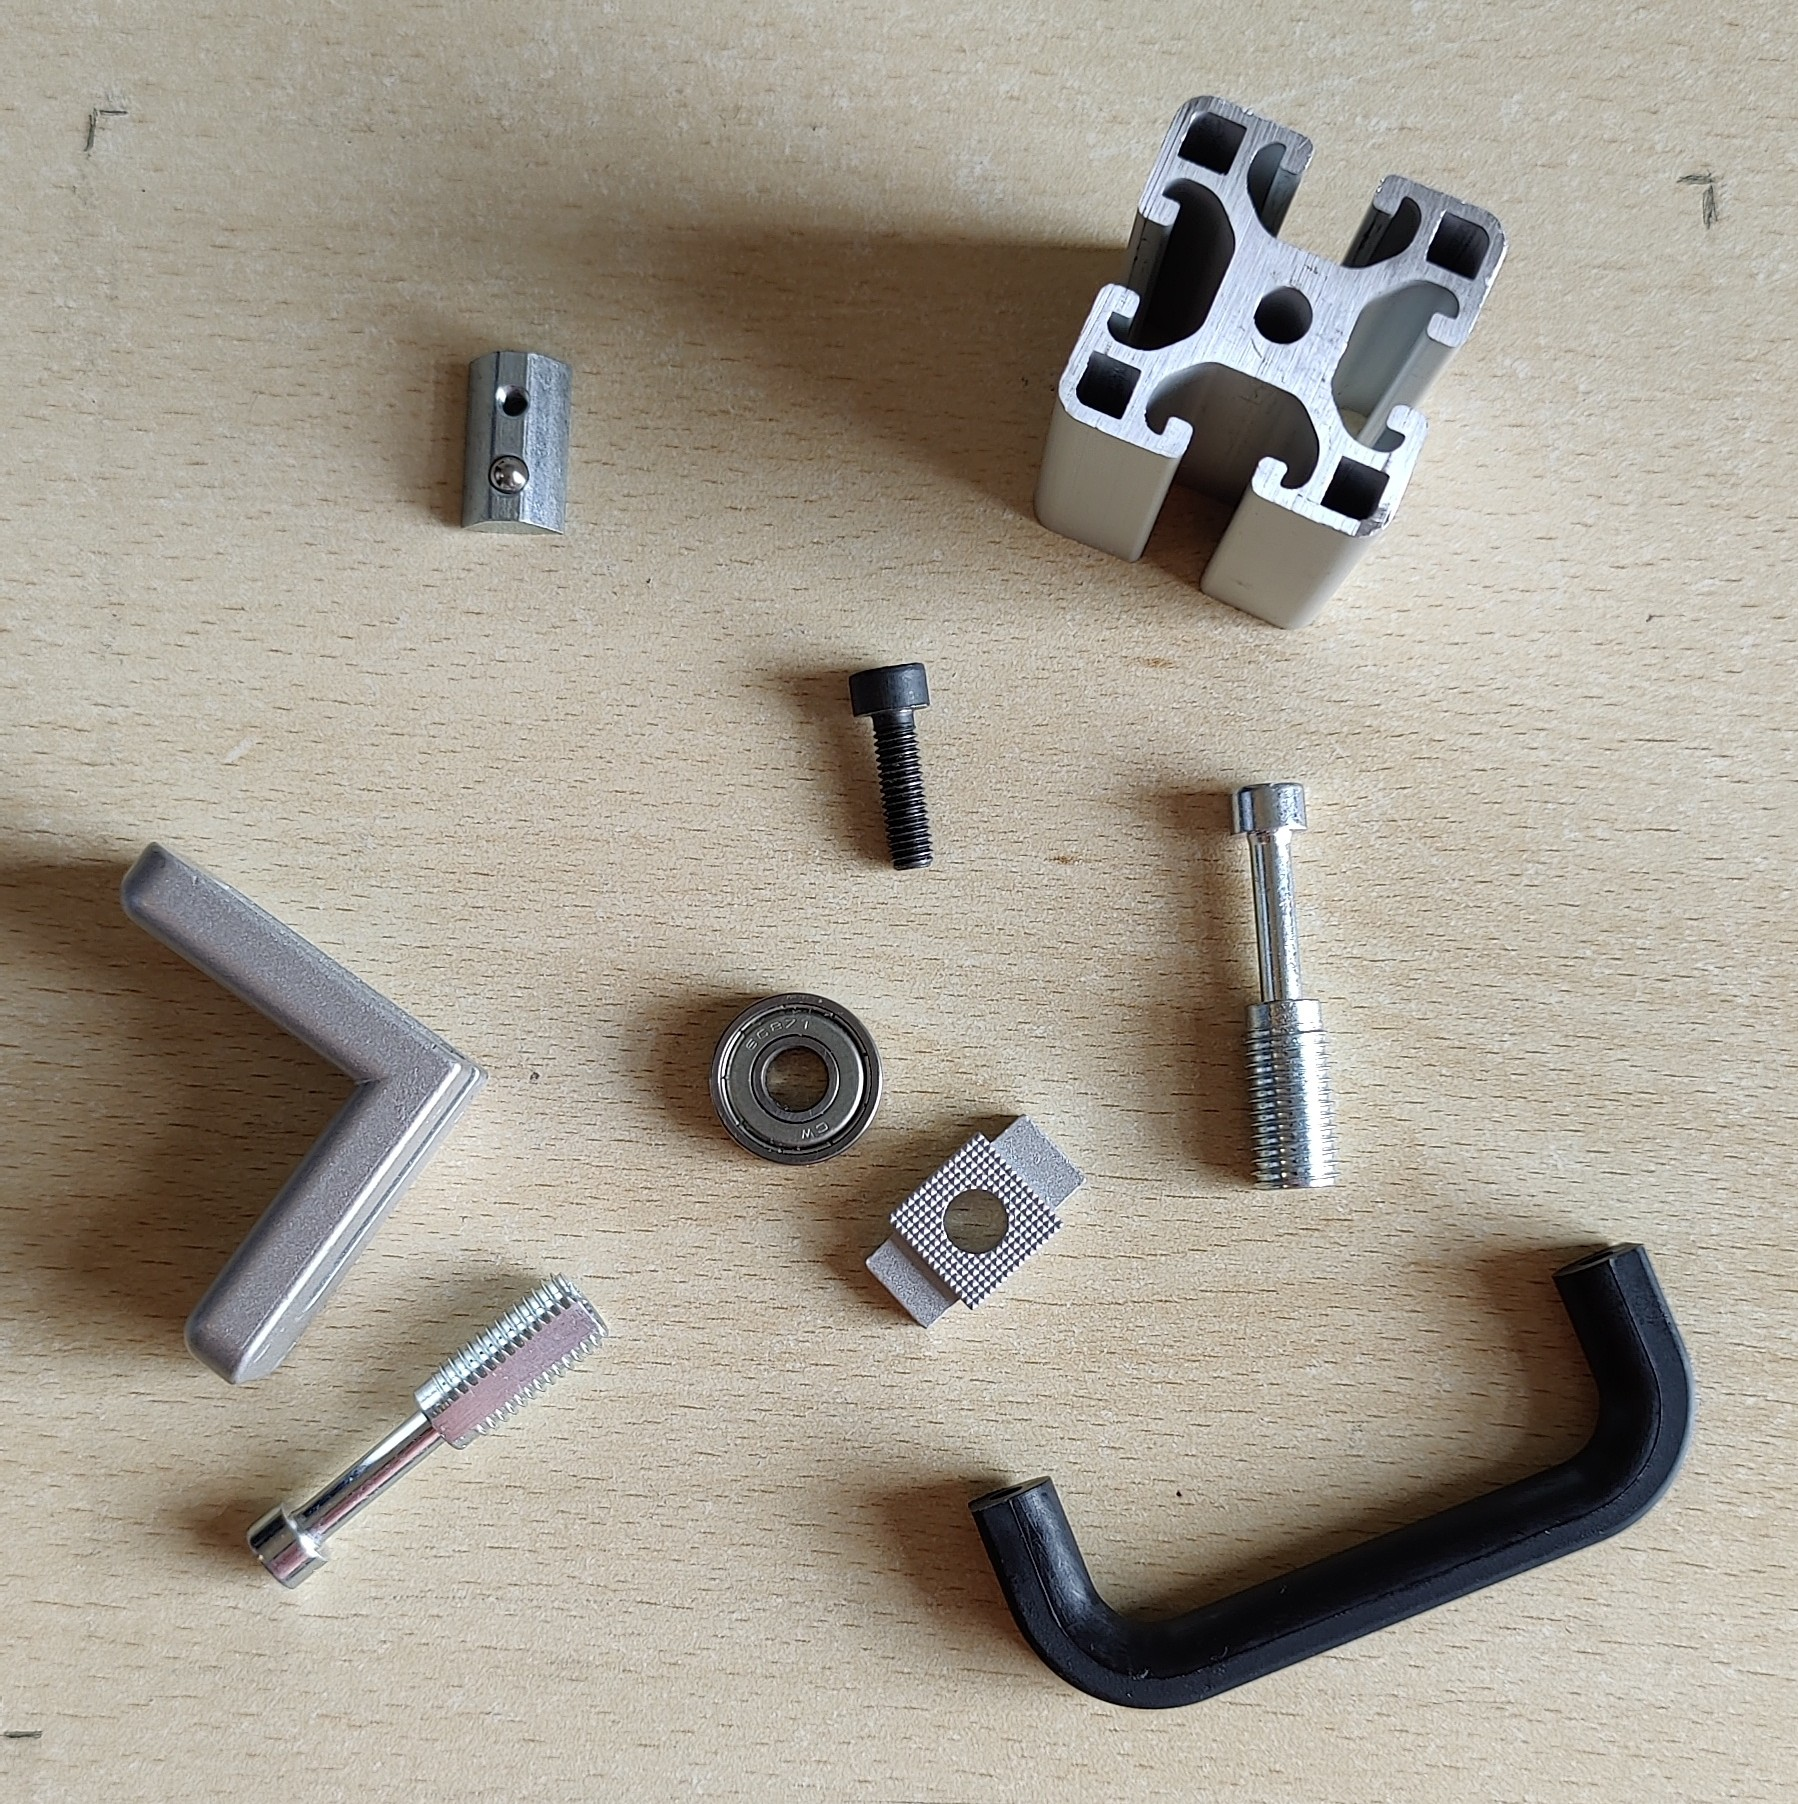Aluminium Extension: (1031, 92, 1510, 634)
Ball Bearing: (705, 989, 884, 1169)
Multiwinkel: (114, 838, 492, 1388)
Pull Handle: (963, 1243, 1699, 1712)
Shoulder Socket Head Cap Screw: (240, 1267, 611, 1592), (1223, 779, 1340, 1197)
Socket Head Cap Screw: (845, 660, 940, 872)
T Nut Square: (863, 1111, 1088, 1332)
T Spring Nut: (454, 344, 576, 538)
